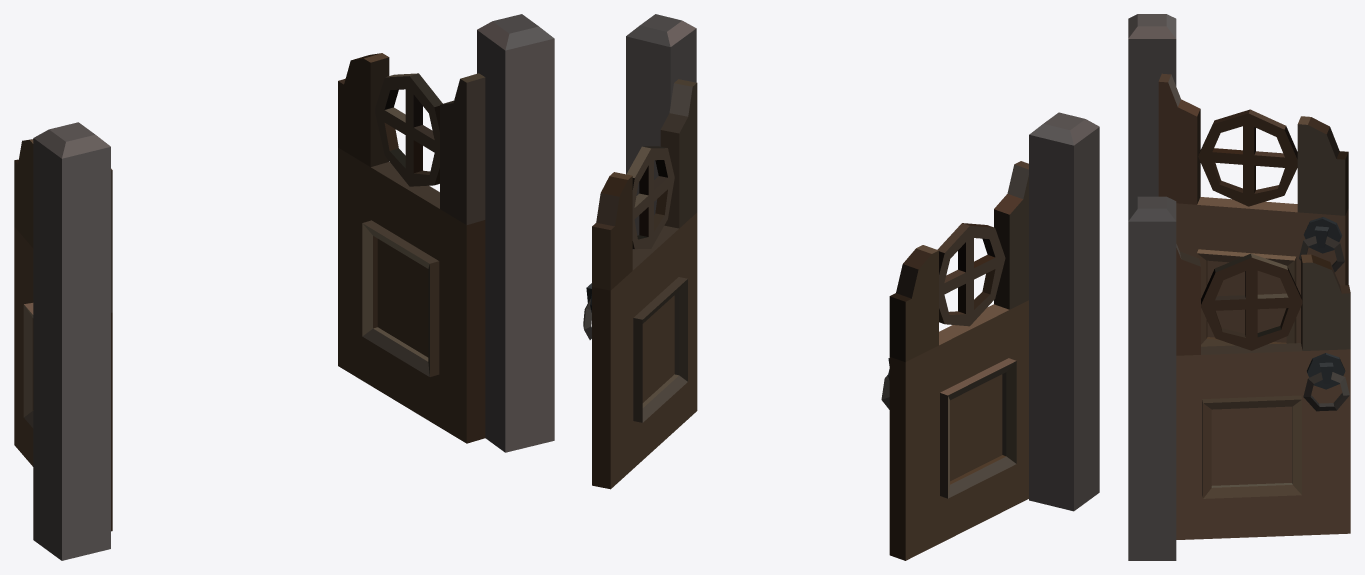
File: MidWall-GateB.fbx
3 renders of one model, left to right at view 1: azimuth 30°, elevation 25°; view 2: azimuth 150°, elevation 25°; view 3: azimuth 270°, elevation 25°, orthographic. The views are drawn at different scales.
Parts seen in each view (by area): view 1: MidWall-GateB; view 2: MidWall-GateB; view 3: MidWall-GateB.
Part boxes in pixels (bbox=[...]): MidWall-GateB: bbox=[14, 14, 554, 560]; MidWall-GateB: bbox=[583, 14, 1099, 560]; MidWall-GateB: bbox=[1128, 14, 1350, 560].
Bounding box in the file's own units: 250 × 200 × 116.
